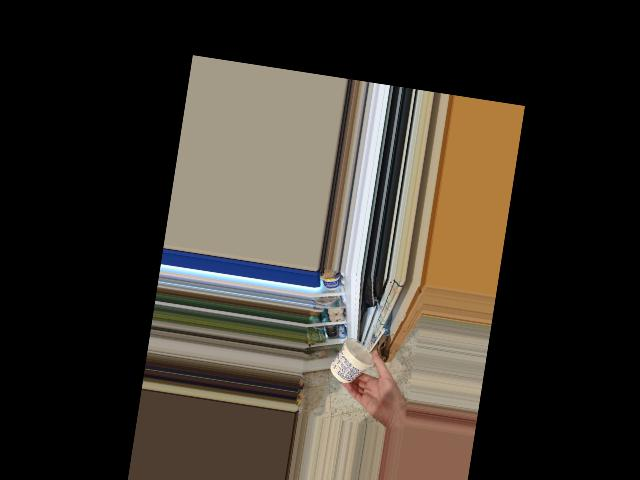cotage: (331, 335, 376, 387)
